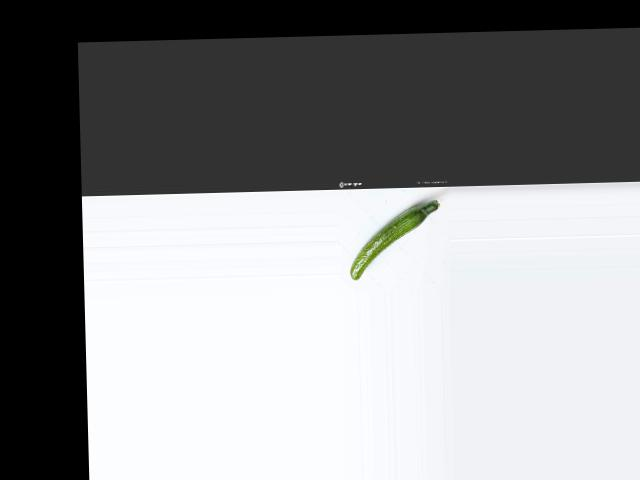cucumber: (349, 200, 442, 279)
